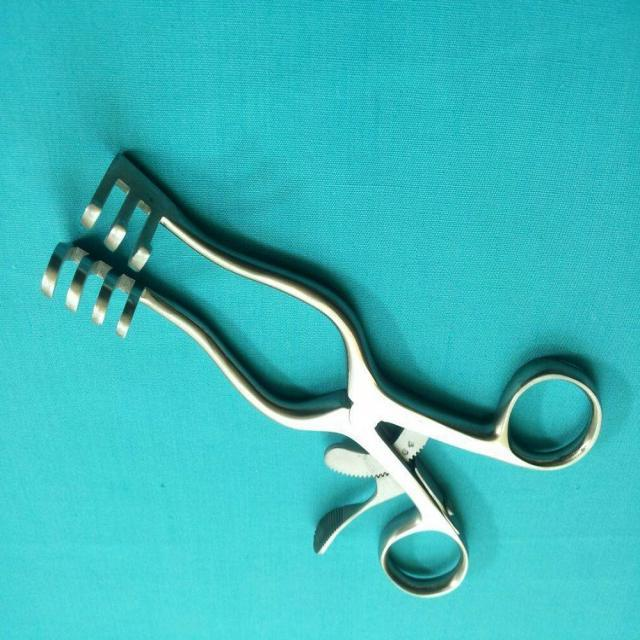Weitlaner: (37, 142, 604, 604)
